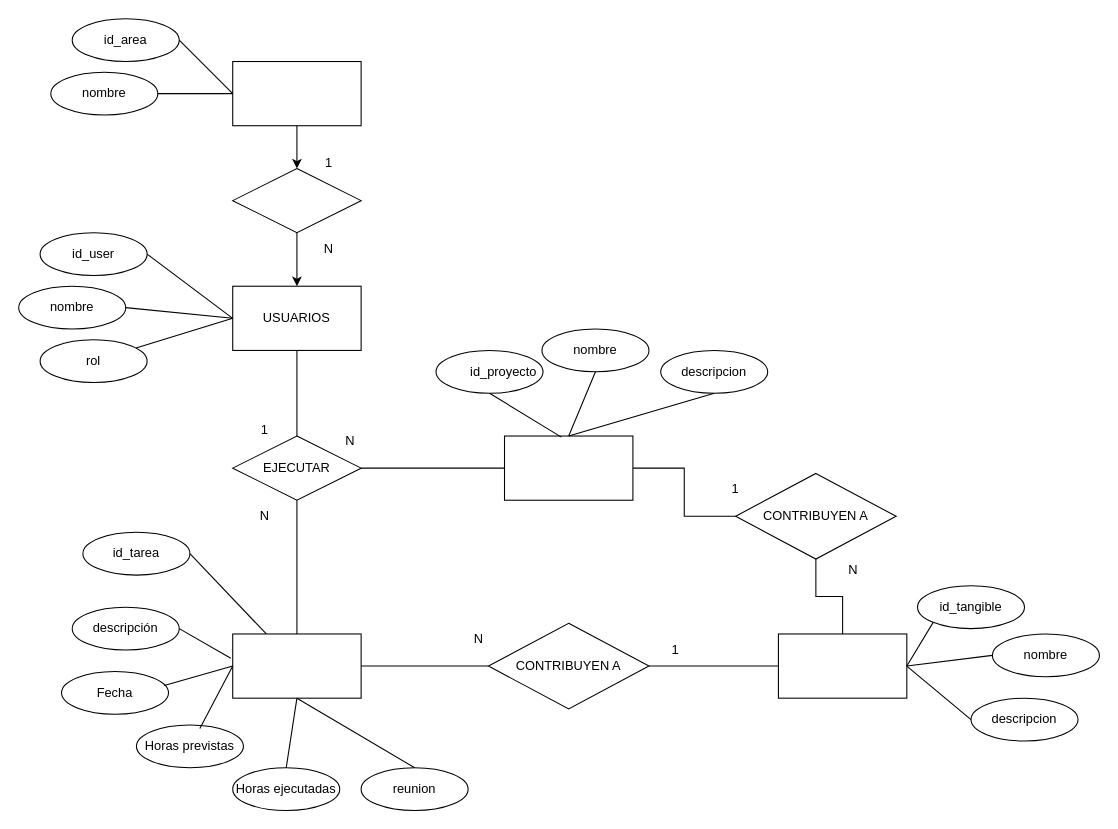
Some shapes in this 1118 by 829 pixel diagram are drawn without their labels. Each missing label, with the centre of its shape:
forma parte: pixel 296 200
PROYECTOS: pixel 568 467
TANGIBLES: pixel 842 665
TAREAS: pixel 296 665
ÁREA: pixel 296 93
